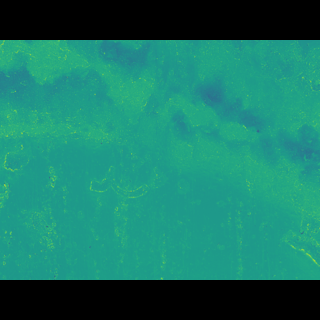Loch: (0, 71, 320, 203)
